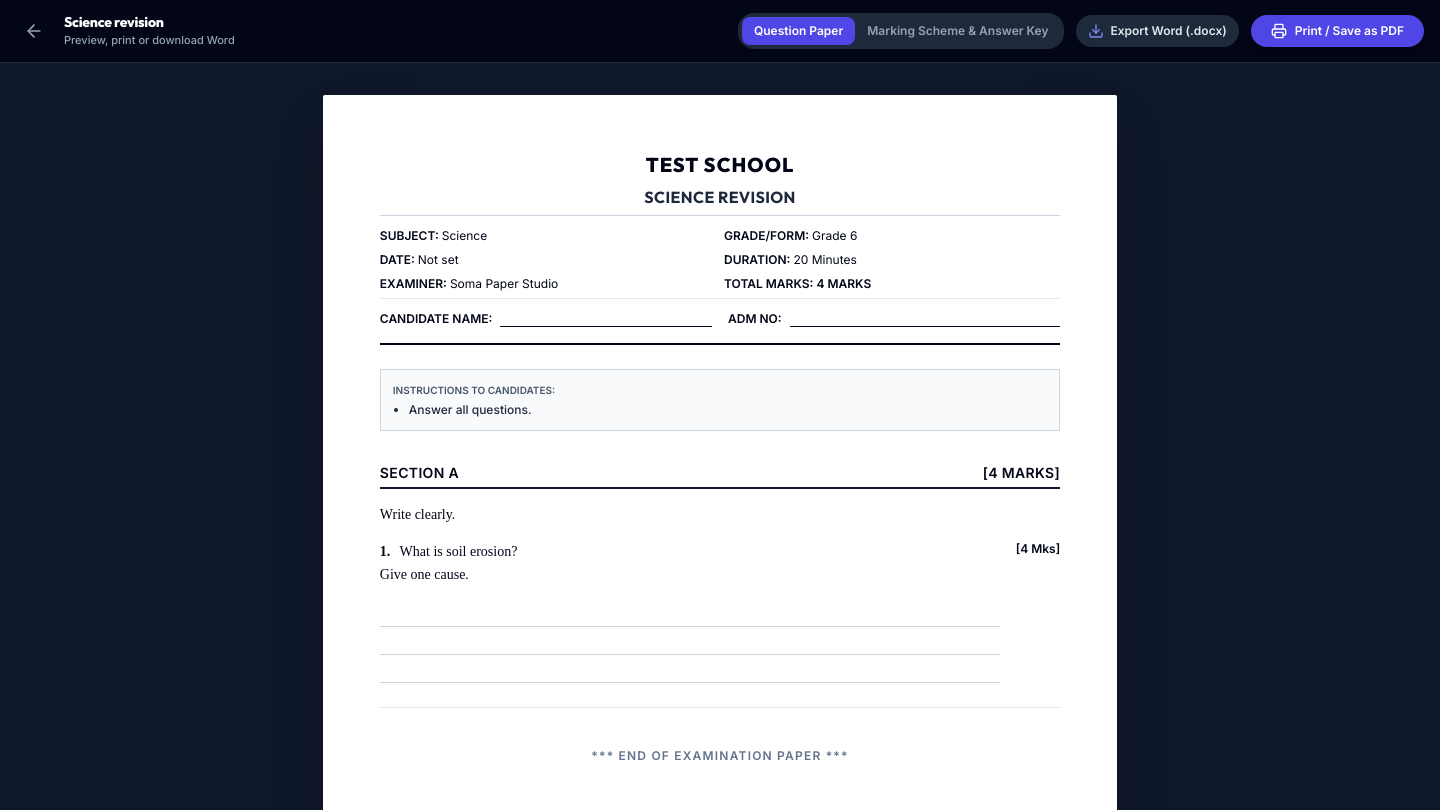
Test: keeps the preview and allows retry when exporting fails
What coordinates should you click on to do the following:
click the button "Export Word (.docx)"
I would click on:
 (1158, 31)
Its box is [1076,15,1239,47].
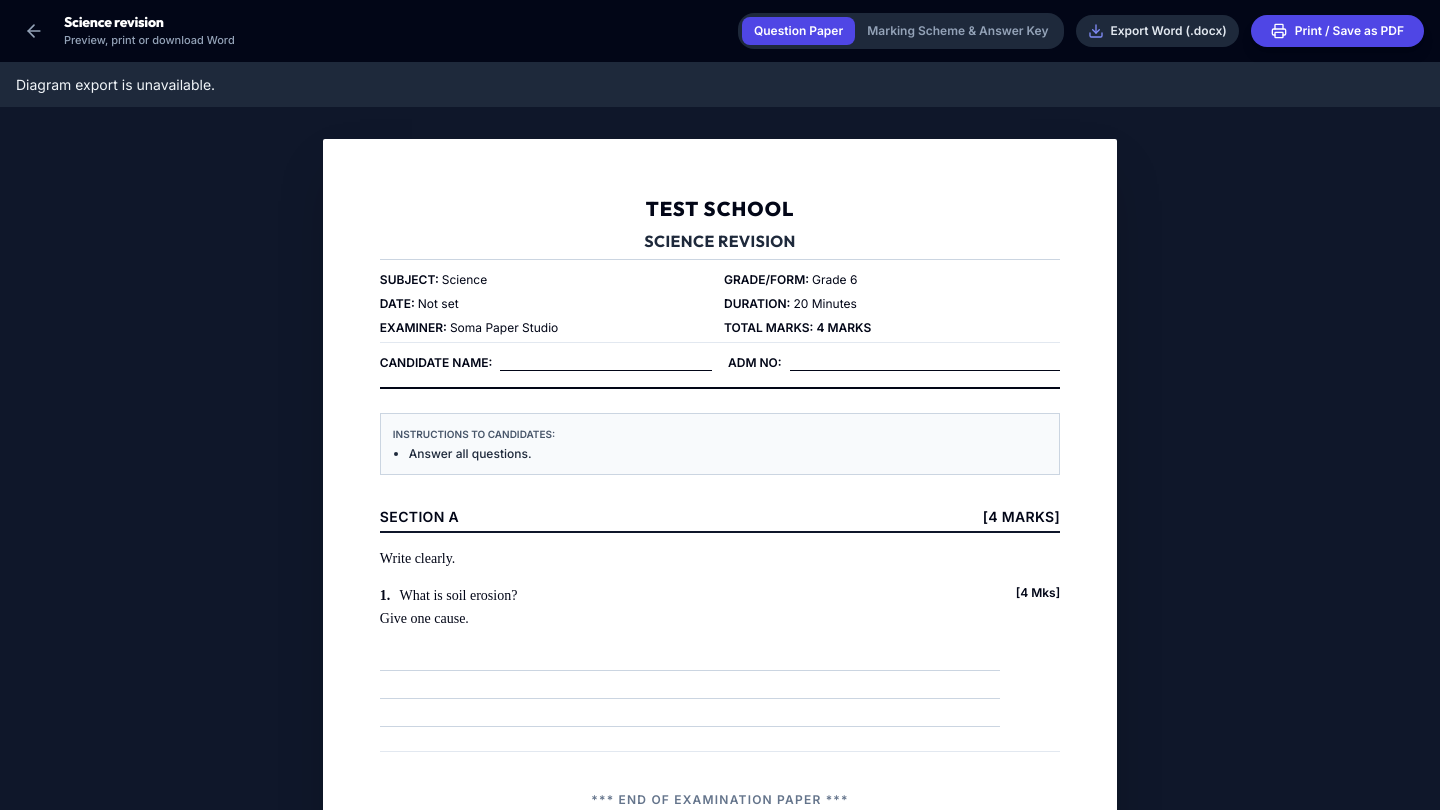
Expected: the button named "Back to paper editor" is enabled, [16,13,52,49]
Result: the message reads "Diagram export is unavailable." at [16,76,215,93]
